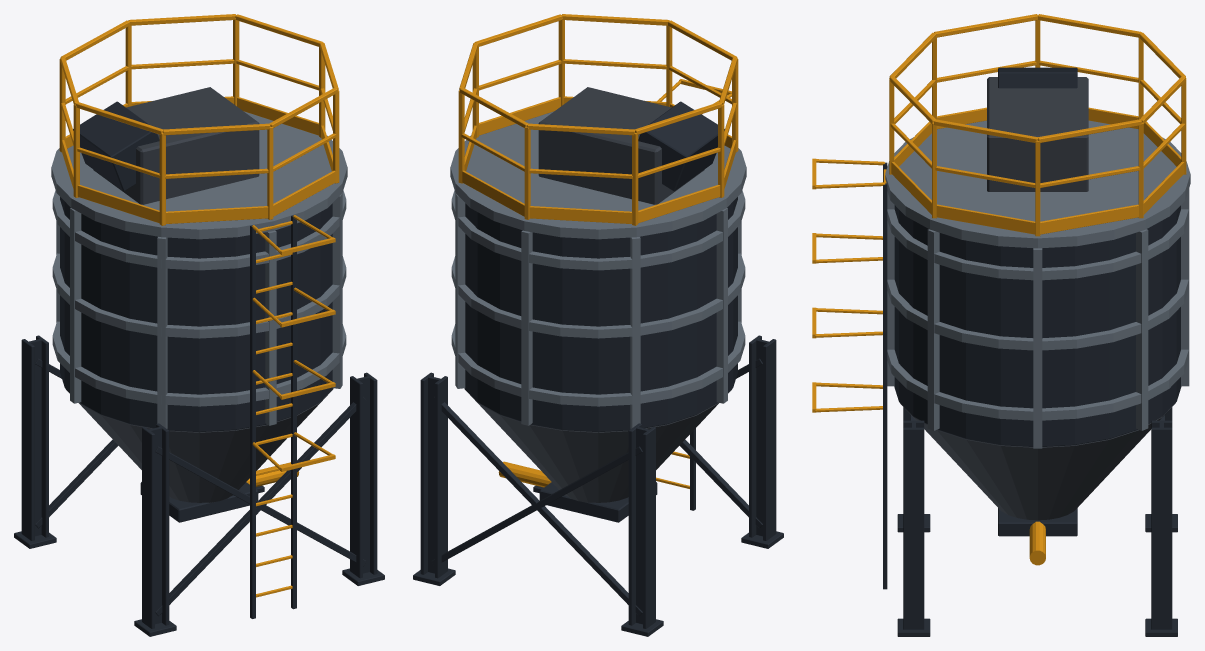
The model's file is surge_bin_bn201.glb.
3 views of the same model, side by side, from view 1: azimuth 30°, elevation 25°; view 2: azimuth 150°, elevation 25°; view 3: azimuth 270°, elevation 25° (orthographic). The views are drawn at different scales.
Parts seen in each view (by area): view 1: BN201_BottomCone; view 2: BN201_BottomCone; view 3: BN201_BottomCone.
Boxes of the visible parts, bbox=[...] form: BN201_BottomCone: bbox=[14, 14, 384, 636]; BN201_BottomCone: bbox=[413, 14, 783, 636]; BN201_BottomCone: bbox=[812, 14, 1190, 636].
Size of the model in its own units: 2.76 by 5 by 3.42.
1 material, 1 textured.
